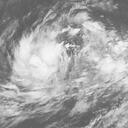cyclone: (34, 22, 107, 90)
